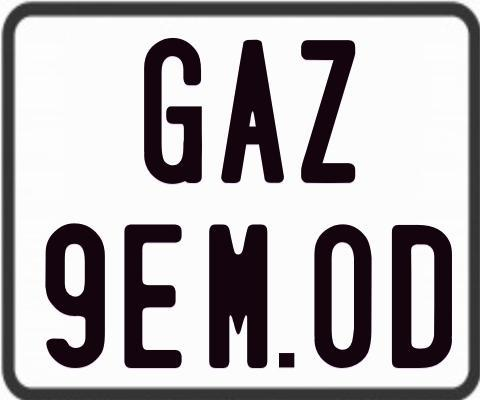0: (312, 224, 371, 370)
9: (45, 223, 107, 371)
A: (221, 38, 285, 187)
D: (390, 225, 450, 370)
E: (123, 222, 183, 370)
G: (143, 36, 205, 186)
M: (207, 223, 270, 371)
Z: (300, 37, 354, 184)
